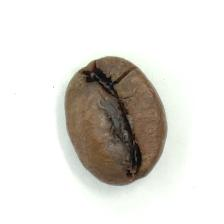NG: (89, 94, 147, 171)
